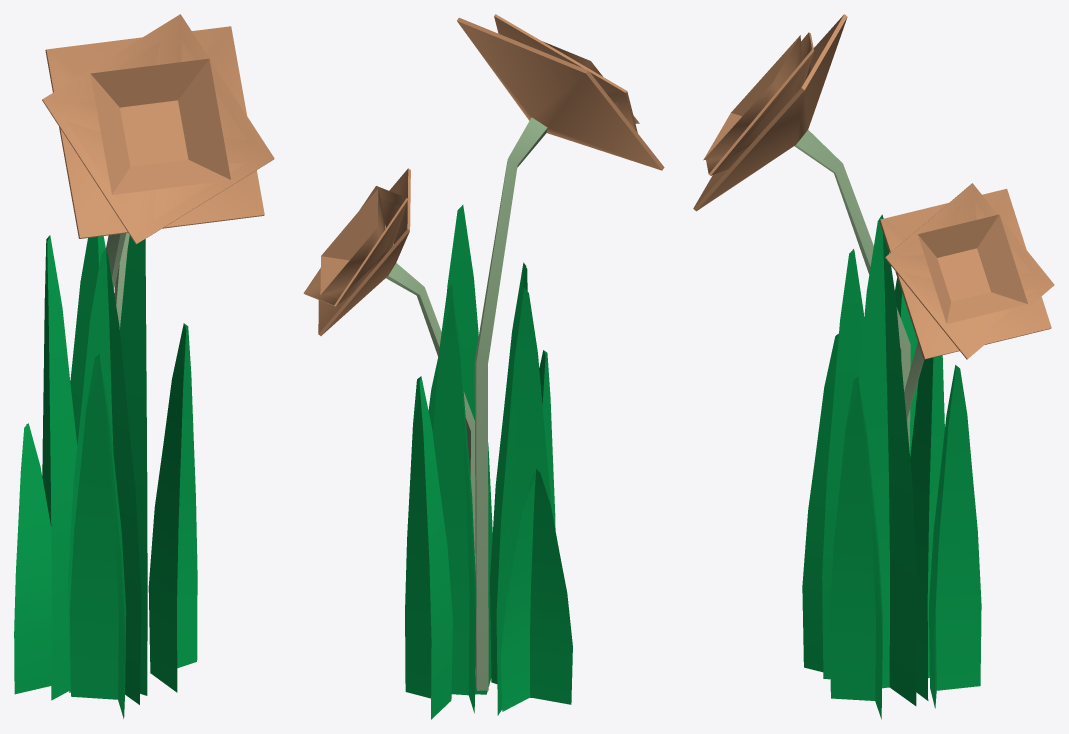
File: tulips.fbx
3 views of the same model, side by side, from view 1: azimuth 30°, elevation 25°; view 2: azimuth 150°, elevation 25°; view 3: azimuth 270°, elevation 25° (orthographic). The views are drawn at different scales.
Parts seen in each view (by area): view 1: FlowerPatch; view 2: FlowerPatch; view 3: FlowerPatch.
Boxes of the visible parts, x1,y1,x2,y2 form: FlowerPatch: [14, 14, 274, 718]; FlowerPatch: [303, 14, 664, 719]; FlowerPatch: [693, 14, 1054, 719].
Bounding box in the file's own units: 5.78 × 14.13 × 7.13.
